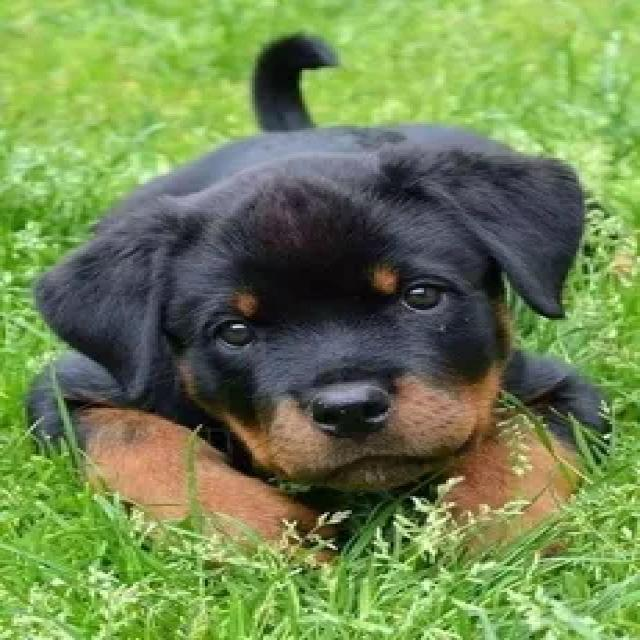Dog: (26, 31, 640, 570)
